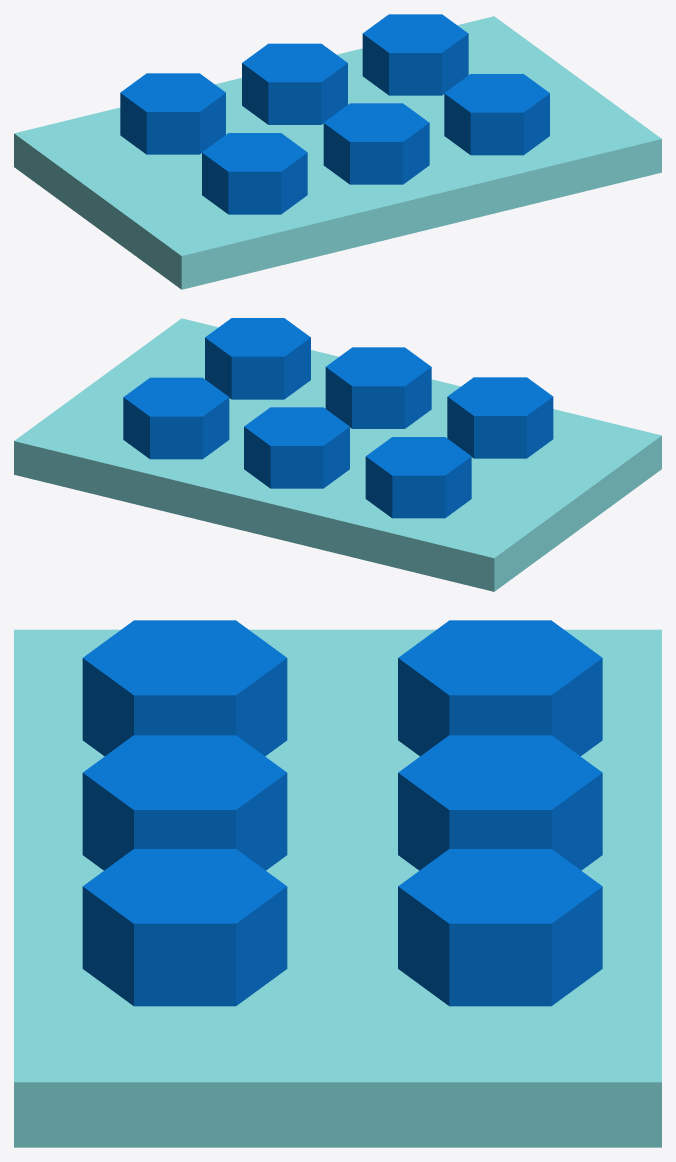
File: Pills Blue.fbx
The picture shows the model from 3 angles, top to bottom: view 1: azimuth 30°, elevation 25°; view 2: azimuth 150°, elevation 25°; view 3: azimuth 270°, elevation 25°; orthographic projection. The views are drawn at different scales.
Visible parts, largest first — view 1: Pills Blue; view 2: Pills Blue; view 3: Pills Blue.
Boxes of the visible parts, x1=… form: Pills Blue: x1=14, y1=14, x2=661, y2=289; Pills Blue: x1=14, y1=318, x2=661, y2=591; Pills Blue: x1=14, y1=620, x2=661, y2=1147.
Size of the model in its own units: 33.43 by 5.08 by 20.22.
